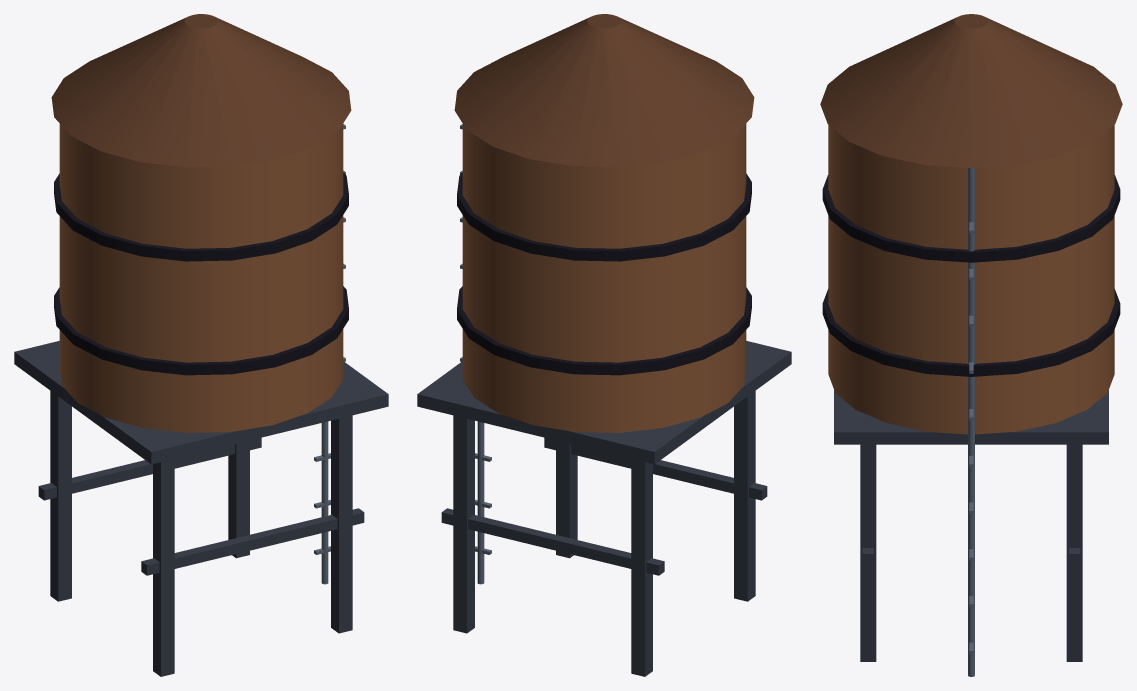
The model's file is roof_tank.glb.
The picture shows the model from 3 angles, left to right: view 1: azimuth 30°, elevation 25°; view 2: azimuth 150°, elevation 25°; view 3: azimuth 270°, elevation 25°; orthographic projection.
Visible parts, largest first — view 1: roof_tank; view 2: roof_tank; view 3: roof_tank.
Part boxes in pixels (<box>): roof_tank: <box>14,14,388,676</box>; roof_tank: <box>417,14,791,676</box>; roof_tank: <box>820,14,1122,676</box>.
Size of the model in its own units: 2.77 by 5.72 by 2.64.
1 material, 1 textured.
